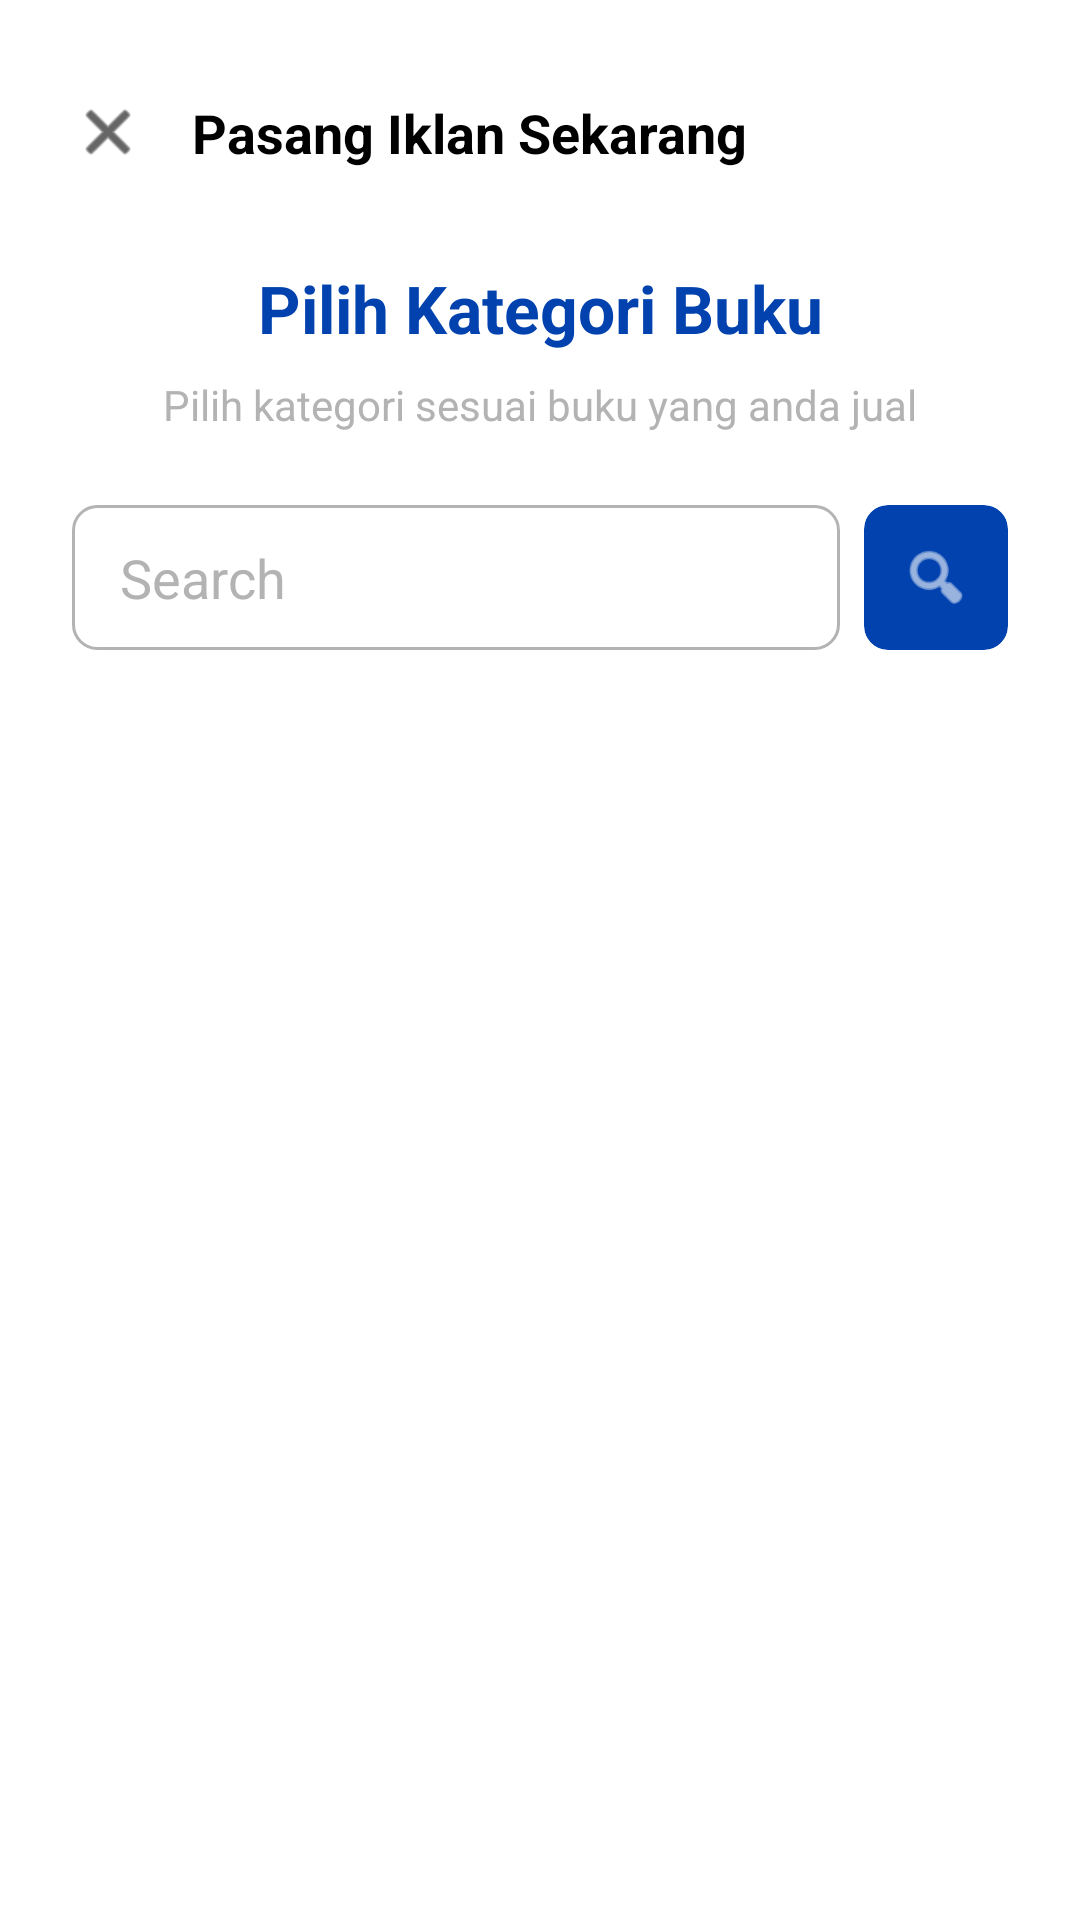

Icons on this 1080*1920 Android screen, each with the point to tap as point (x, y):
close clear cancel: point (108, 132)
